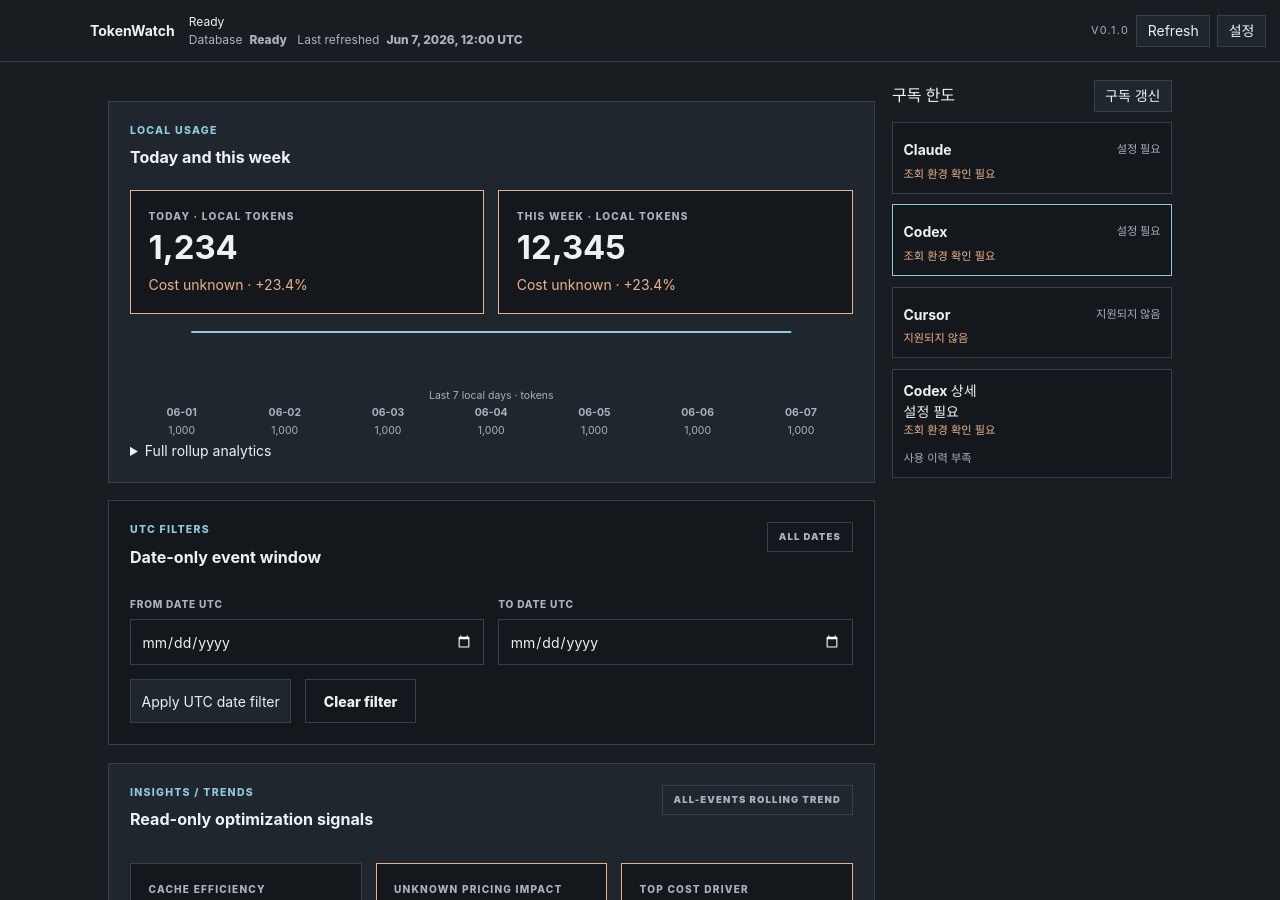
Test: desktop renderer shell › manual refresh updates cards and last refreshed status through the preload API
The width and height of the screenshot is (1280, 900).
Click the button with aria-label "Refresh dashboard snapshot" at (1173, 30), box [1136,14,1210,46]
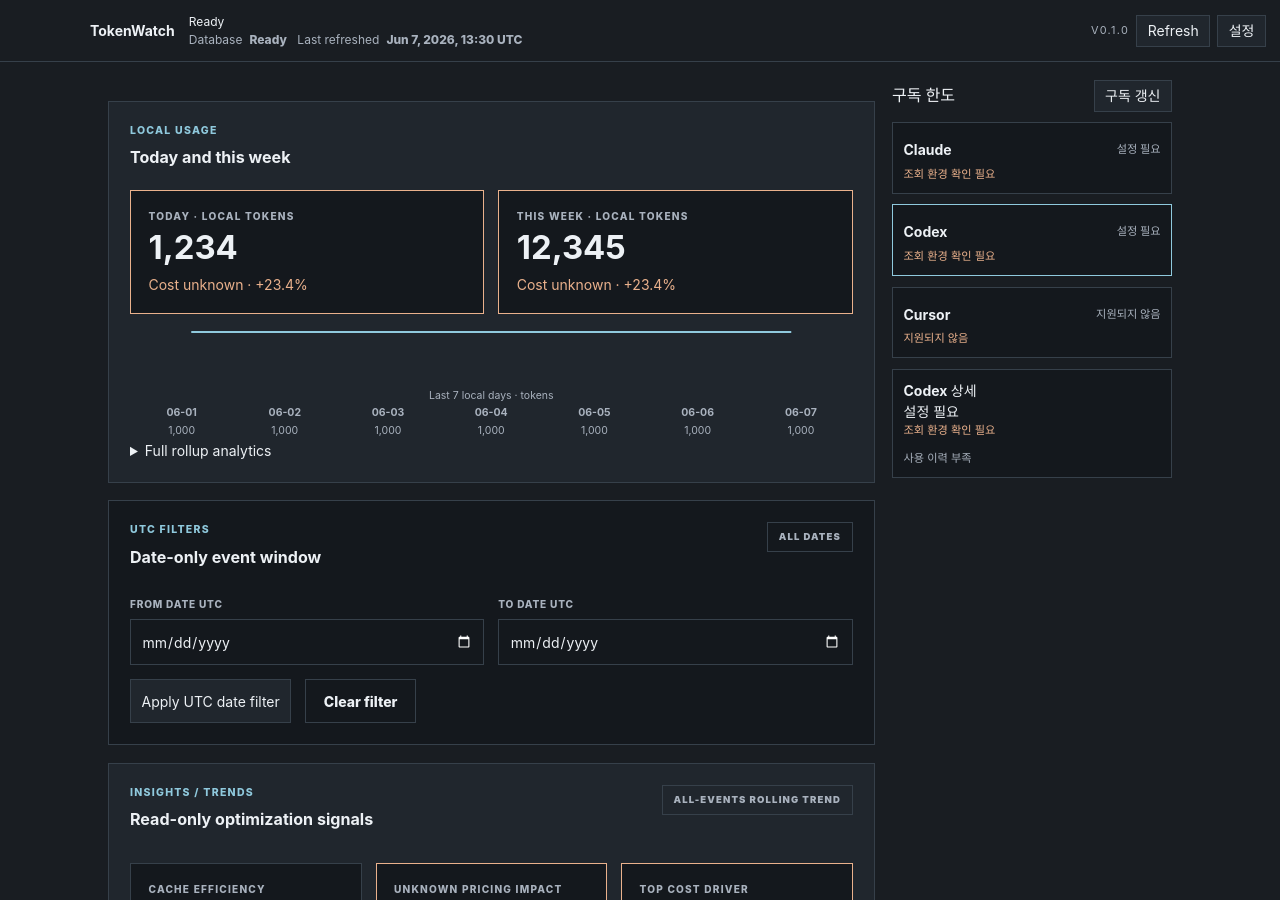
Expected: the element named "Database and refresh status" shows "13:30 UTC", [386,32,522,46]
